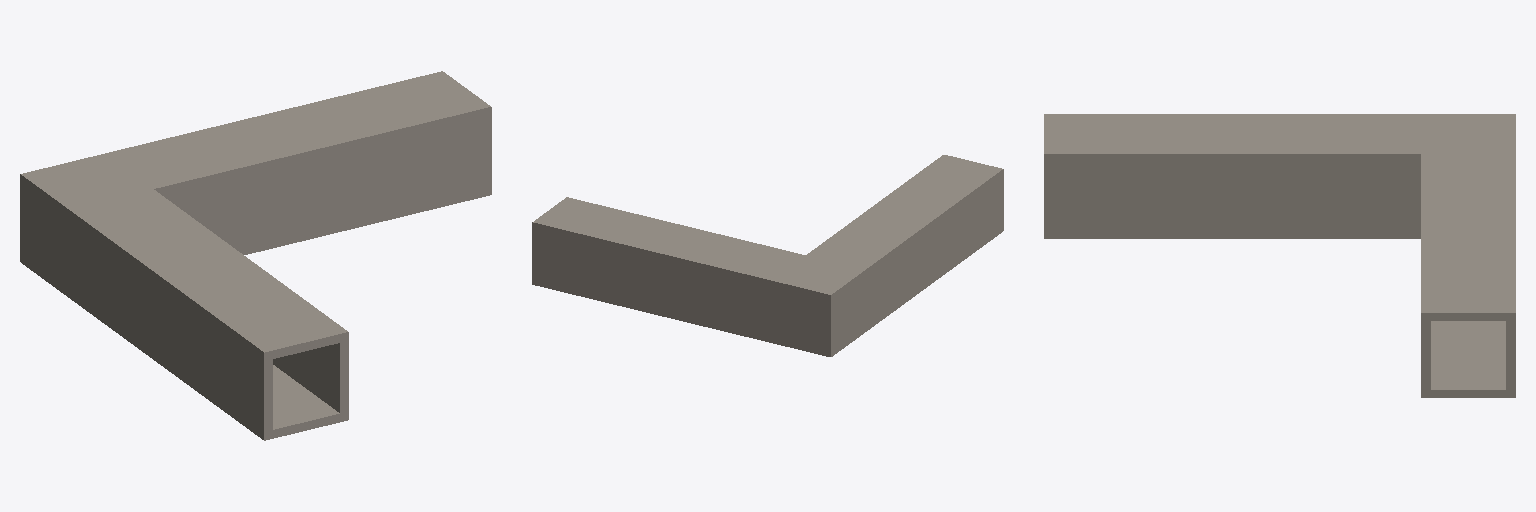
robot.urdf — L:
<?xml version="1.0" encoding="utf-8"?>
<!-- This URDF was automatically created by SolidWorks to URDF Exporter! Originally created by [author] ([email redacted]) 
     Commit Version: 1.6.0-4-g7f85cfe  Build Version: 1.6.7995.38578
     For more information, please see http://wiki.ros.org/sw_urdf_exporter -->
<robot
  name="L">
  <link
    name="llink">
    <inertial>
      <origin
        xyz="0.080111111111111 -0.0801111111111111 0.025"
        rpy="0 0 0" />
      <mass
        value="2.9565" />
      <inertia
        ixx="0.00799984694444445"
        ixy="0.000501660055555552"
        ixz="-1.5493899565968E-18"
        iyy="0.00799984694444444"
        iyz="-1.42619183206054E-18"
        izz="0.0139794188888889" />
    </inertial>
    <visual>
      <origin
        xyz="0 0 0"
        rpy="0 0 0" />
      <geometry>
        <mesh
          filename="../meshes/llink.STL" />
      </geometry>
      <material
        name="">
        <color
          rgba="0.647058823529412 0.619607843137255 0.588235294117647 1" />
      </material>
    </visual>
    <collision>
      <origin
        xyz="0 0 0"
        rpy="0 0 0" />
      <geometry>
        <mesh
          filename="../meshes/llink.STL" />
      </geometry>
    </collision>
  </link>
</robot>

--- Facts derived from the render (not from the file) ---
The picture shows the robot from 3 angles, left to right: view 1: azimuth 30°, elevation 25°; view 2: azimuth 150°, elevation 25°; view 3: azimuth 270°, elevation 25°; orthographic projection.
Robot: L — 1 links, 0 joints (none); root link llink; default pose: all joints at 0.
Links seen in each view (by area): view 1: llink; view 2: llink; view 3: llink.
Link boxes in pixels (x1,y1,x2,y2): llink: (20,71,491,440); llink: (532,155,1003,356); llink: (1044,114,1515,397).
Bounding box of the posed robot: 0.25 × 0.25 × 0.05 m (x, y, z).
Meshes: 1 distinct files referenced, 1 mesh visuals loaded (1 binary STL).